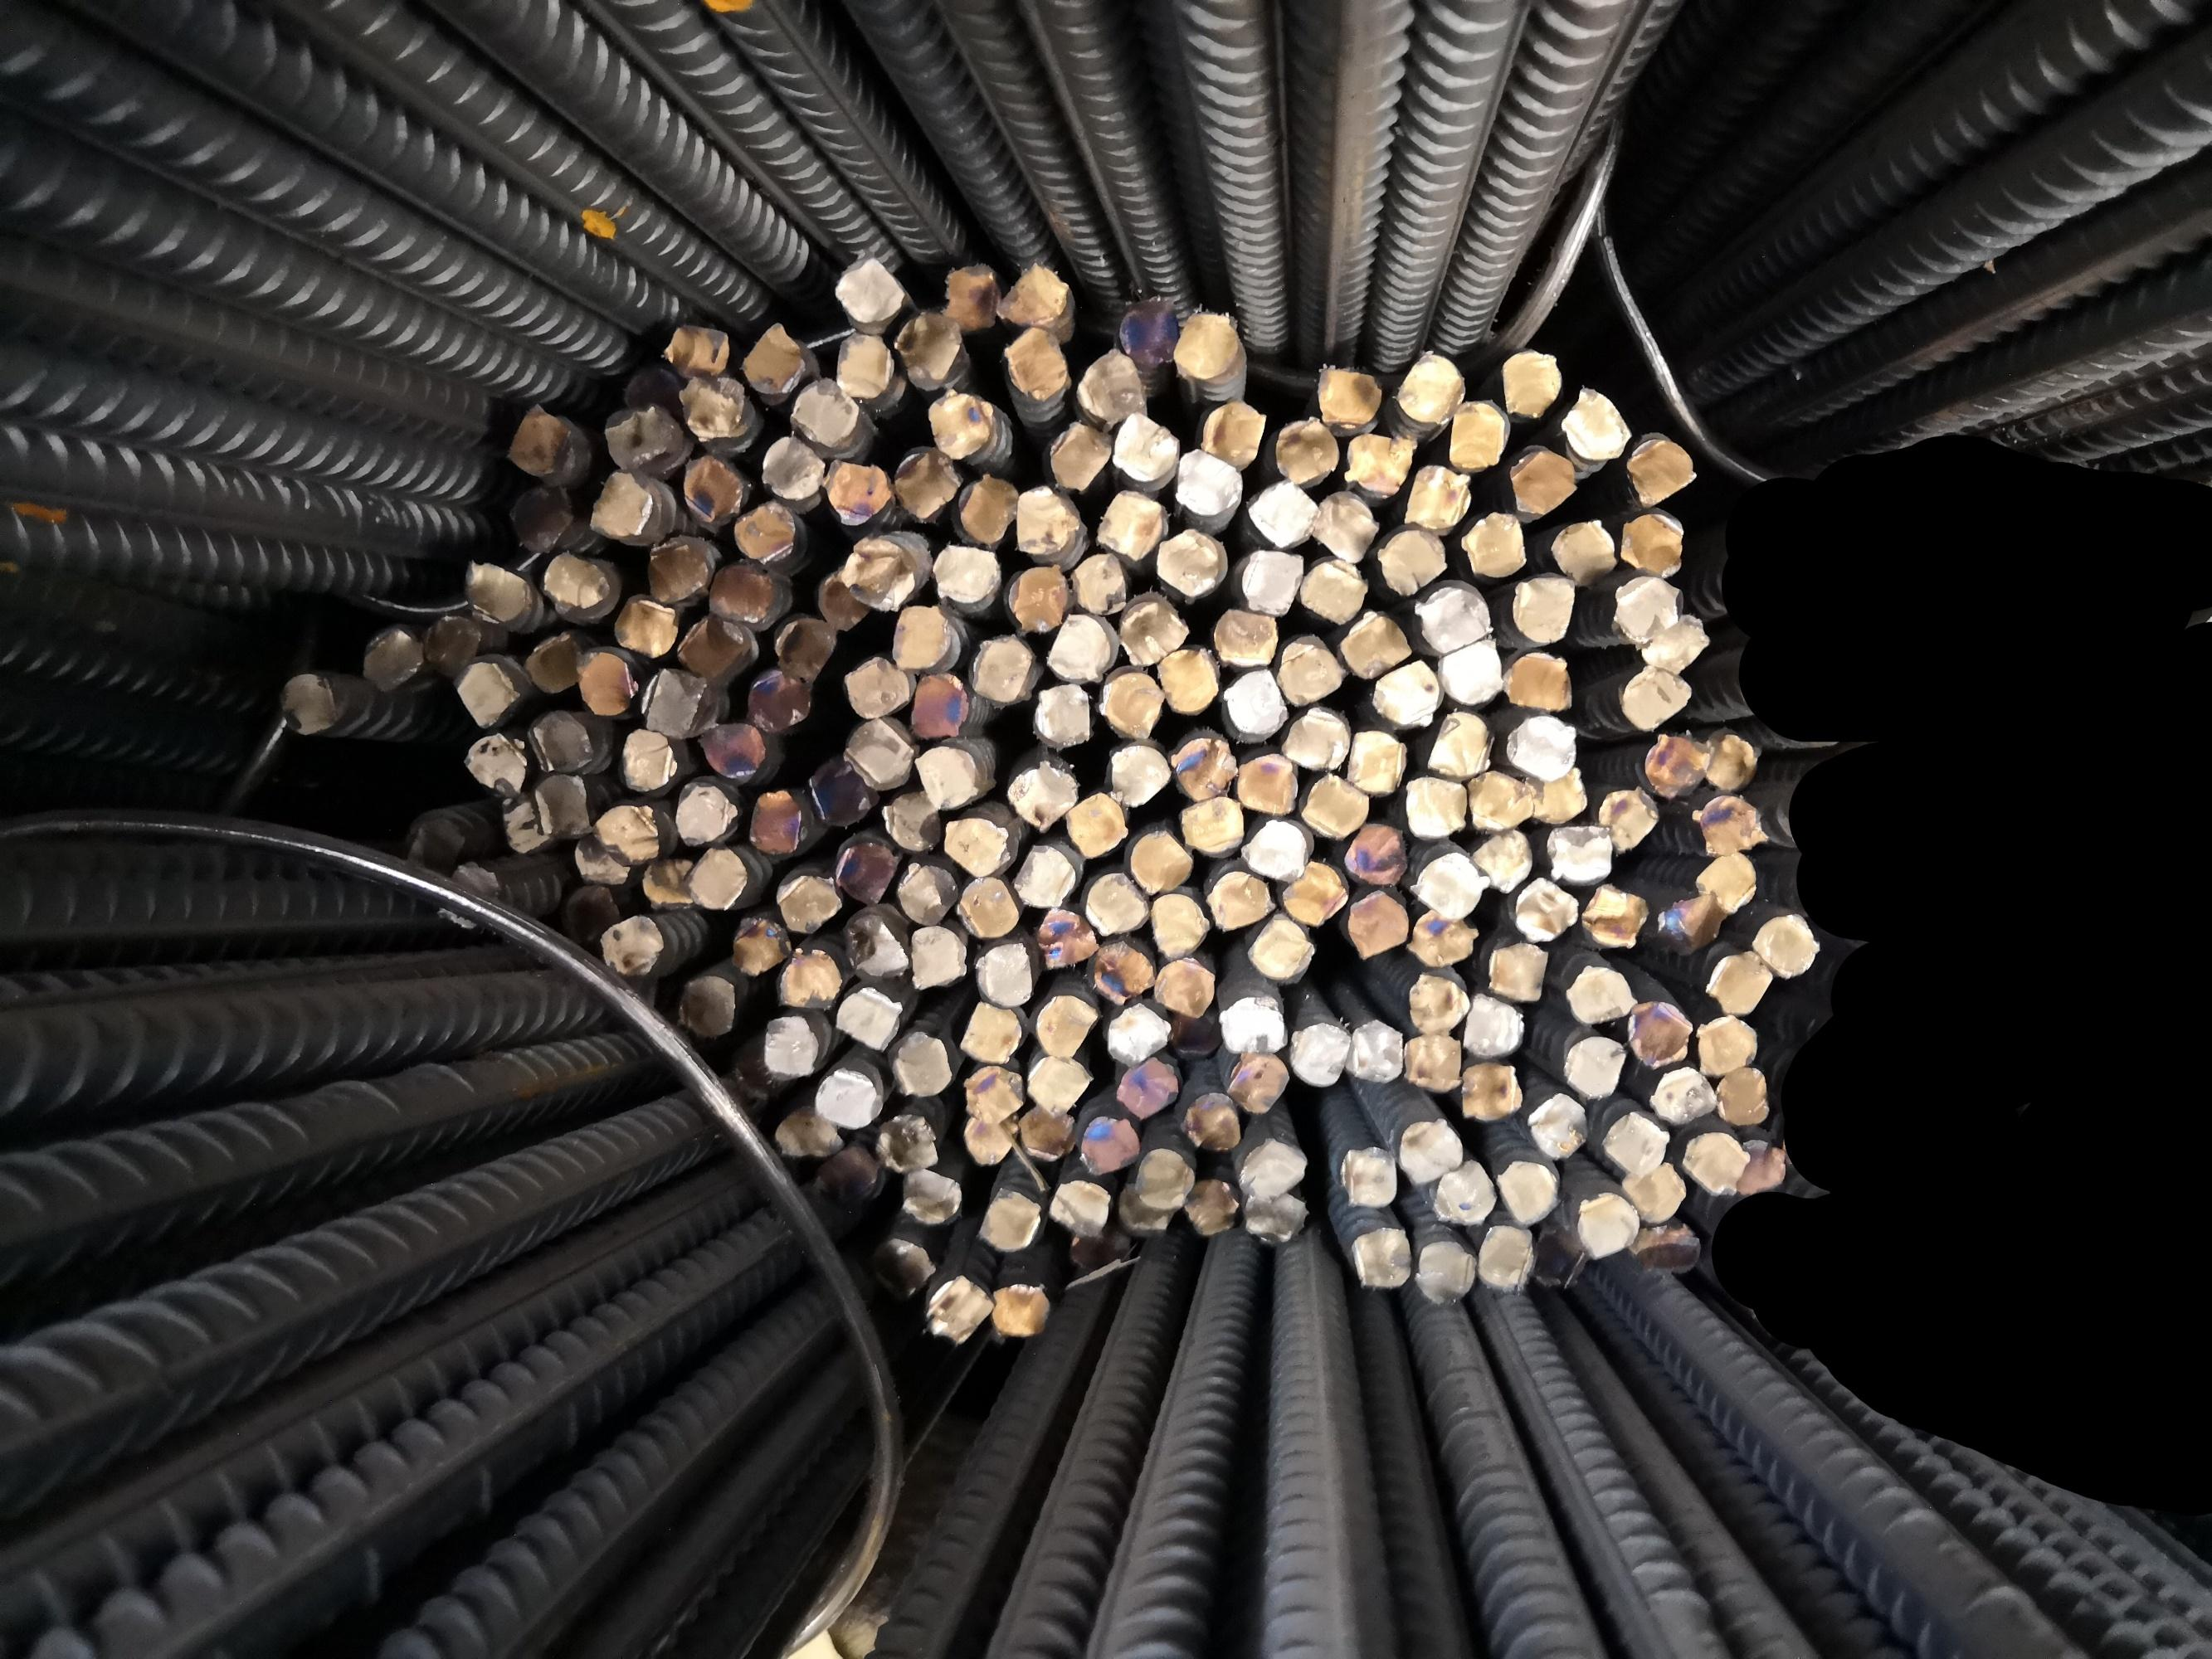bar: (1562, 385, 1633, 462), (842, 537, 915, 610), (1004, 758, 1077, 829), (1075, 347, 1145, 420), (896, 312, 960, 387), (1412, 854, 1489, 917), (1394, 1115, 1464, 1183), (1619, 664, 1691, 730), (1415, 587, 1489, 652), (1344, 430, 1417, 495), (1508, 446, 1576, 514), (790, 380, 859, 446), (842, 720, 912, 786), (1098, 671, 1164, 741), (1394, 352, 1461, 422), (830, 260, 903, 322), (638, 669, 706, 735), (1370, 659, 1436, 727), (1436, 638, 1504, 704), (504, 406, 568, 476), (894, 450, 959, 519), (807, 762, 877, 826), (1002, 326, 1067, 396), (1510, 573, 1574, 643), (819, 458, 891, 521), (1339, 615, 1410, 678), (1096, 490, 1163, 556), (1173, 450, 1239, 516), (1602, 1108, 1668, 1175), (1628, 437, 1694, 504), (927, 1276, 992, 1344), (927, 389, 990, 458), (1119, 599, 1189, 662), (969, 631, 1030, 702), (1112, 415, 1177, 481), (1126, 826, 1192, 890), (1313, 495, 1377, 561), (1346, 892, 1410, 958), (1513, 877, 1579, 941), (1583, 882, 1647, 948), (465, 558, 528, 626), (589, 469, 652, 537), (845, 913, 908, 981), (1014, 484, 1077, 552), (1248, 481, 1316, 544), (1299, 559, 1367, 622), (1506, 714, 1574, 777), (1461, 511, 1523, 579), (587, 803, 657, 864), (1377, 530, 1447, 591), (743, 324, 802, 396), (894, 863, 959, 927), (1084, 870, 1149, 934), (1105, 1002, 1170, 1066), (1199, 399, 1264, 464), (1001, 261, 1067, 324), (1171, 734, 1234, 800), (1175, 310, 1238, 376), (1705, 950, 1771, 1012), (1403, 464, 1469, 526), (842, 655, 910, 716), (1014, 842, 1075, 910), (1550, 519, 1618, 580), (1693, 795, 1769, 849), (1565, 965, 1635, 1025), (603, 408, 675, 465), (1234, 1140, 1306, 1197), (1407, 910, 1480, 965), (455, 662, 518, 727), (462, 734, 525, 798), (835, 986, 899, 1049), (913, 744, 976, 809), (1048, 423, 1110, 488), (1428, 709, 1490, 774), (1614, 575, 1679, 638), (760, 436, 821, 502), (1156, 648, 1217, 714), (1067, 789, 1128, 856), (1089, 941, 1156, 1002), (1286, 1023, 1347, 1089), (1750, 917, 1816, 978), (957, 472, 1016, 540), (1157, 528, 1217, 596), (1276, 415, 1335, 483), (1503, 652, 1572, 709), (359, 629, 422, 692), (1035, 993, 1098, 1056), (1222, 671, 1285, 734), (1239, 549, 1302, 612), (1628, 1002, 1691, 1065), (779, 948, 840, 1012), (678, 378, 743, 439), (962, 1000, 1023, 1065), (933, 540, 997, 601), (1107, 744, 1171, 805), (1302, 775, 1367, 836), (1496, 1161, 1560, 1222), (1461, 992, 1522, 1056), (511, 486, 570, 552), (708, 563, 774, 622), (908, 673, 967, 739), (1008, 563, 1067, 629), (1435, 1161, 1494, 1227), (1529, 1093, 1588, 1159), (676, 619, 746, 674), (1204, 871, 1274, 927), (833, 840, 896, 901), (1281, 863, 1342, 925), (1576, 1194, 1637, 1256), (1684, 1131, 1747, 1192), (1408, 972, 1469, 1035), (1487, 941, 1550, 1002), (1471, 829, 1532, 892), (1598, 788, 1659, 850), (1645, 734, 1708, 795), (612, 596, 676, 655), (891, 1032, 950, 1096), (1149, 892, 1208, 957), (1403, 775, 1468, 835), (1468, 770, 1532, 829), (1619, 516, 1684, 575), (542, 552, 608, 610), (683, 455, 741, 521), (1241, 821, 1307, 878), (1346, 728, 1403, 795), (1501, 349, 1558, 415), (1211, 608, 1279, 664), (1217, 1000, 1288, 1053), (955, 877, 1018, 936), (980, 1187, 1039, 1249), (1283, 709, 1346, 769), (1415, 1241, 1475, 1304), (1693, 850, 1755, 910), (598, 915, 662, 972), (697, 723, 762, 781), (959, 1066, 1023, 1124), (943, 817, 1008, 875), (891, 603, 948, 667), (1117, 298, 1175, 362), (1522, 767, 1586, 824), (762, 1014, 818, 1080), (746, 674, 812, 730), (1449, 401, 1504, 467), (277, 673, 336, 734), (532, 711, 591, 772), (833, 335, 892, 396), (882, 789, 941, 850), (1048, 617, 1107, 678), (1049, 1178, 1110, 1237), (1250, 917, 1309, 978), (1351, 1227, 1410, 1288), (1564, 1037, 1625, 1096), (770, 1107, 842, 1157), (575, 652, 633, 714), (648, 538, 706, 601), (814, 1070, 877, 1127), (1035, 910, 1098, 967), (1116, 1058, 1178, 1115), (1278, 645, 1340, 702), (1339, 1147, 1396, 1209), (1694, 1014, 1757, 1072), (1548, 824, 1611, 882), (439, 866, 495, 931), (870, 1237, 934, 1293), (1178, 796, 1243, 852), (1318, 366, 1382, 422), (1476, 1227, 1532, 1291), (1659, 894, 1724, 950), (774, 877, 840, 931), (1651, 1066, 1717, 1121), (1642, 617, 1708, 671), (675, 782, 734, 842), (908, 927, 967, 986), (1625, 1164, 1684, 1223), (687, 850, 744, 911), (1070, 552, 1128, 613), (1154, 958, 1215, 1016), (1401, 1033, 1462, 1091), (772, 620, 835, 676), (1346, 1019, 1401, 1082), (1457, 1063, 1520, 1119), (873, 1117, 940, 1169), (1034, 685, 1091, 744), (1135, 1148, 1194, 1206), (1229, 1054, 1286, 1114), (1238, 755, 1297, 812), (1346, 824, 1405, 882), (533, 775, 589, 836), (525, 634, 580, 695), (974, 943, 1030, 1004), (1027, 1058, 1089, 1112), (622, 728, 675, 793), (947, 265, 999, 329), (1241, 1194, 1307, 1244), (424, 617, 481, 674), (736, 502, 795, 558), (990, 1281, 1049, 1337), (901, 1169, 964, 1222), (1708, 725, 1759, 789), (680, 978, 734, 1037), (1081, 1117, 1140, 1171), (750, 791, 802, 852), (664, 326, 729, 375), (729, 918, 784, 974), (1715, 1068, 1769, 1126), (567, 887, 621, 943), (818, 573, 868, 631), (406, 821, 460, 873), (1736, 1138, 1785, 1195), (570, 838, 629, 885), (1020, 1108, 1074, 1159), (1185, 1178, 1236, 1232), (1534, 1230, 1584, 1284), (824, 1147, 879, 1195), (1633, 1232, 1698, 1272), (1117, 1182, 1168, 1232), (500, 800, 549, 852), (966, 1117, 1018, 1166), (640, 861, 695, 906), (1184, 1103, 1239, 1148), (1069, 1232, 1131, 1269), (622, 368, 678, 408), (1171, 1014, 1224, 1056)
